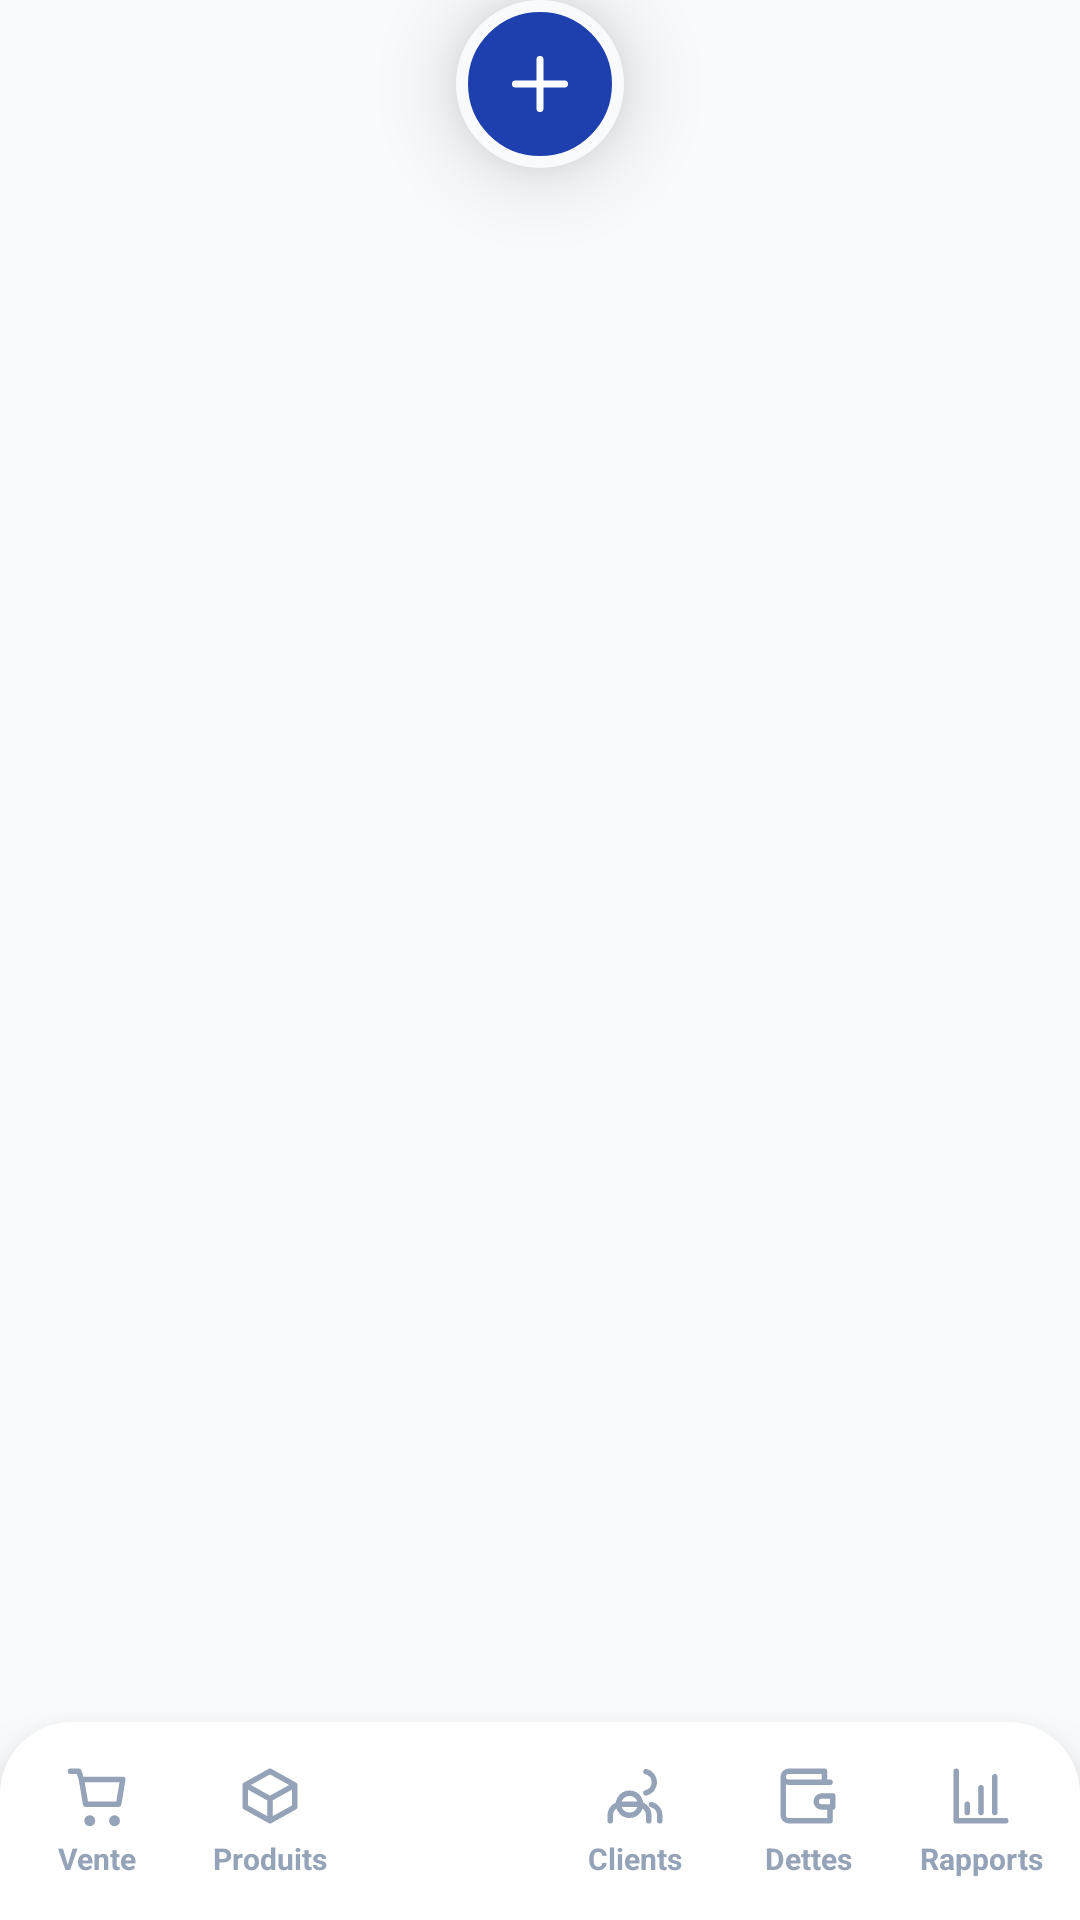

Screen size 1080px×1920px. Icon name, then its center in pixels as (x,y):
Actions rapides: (540,84)
box: (270,1796)
cart: (96,1797)
chart: (981,1796)
users: (635,1796)
wallet: (808,1796)
